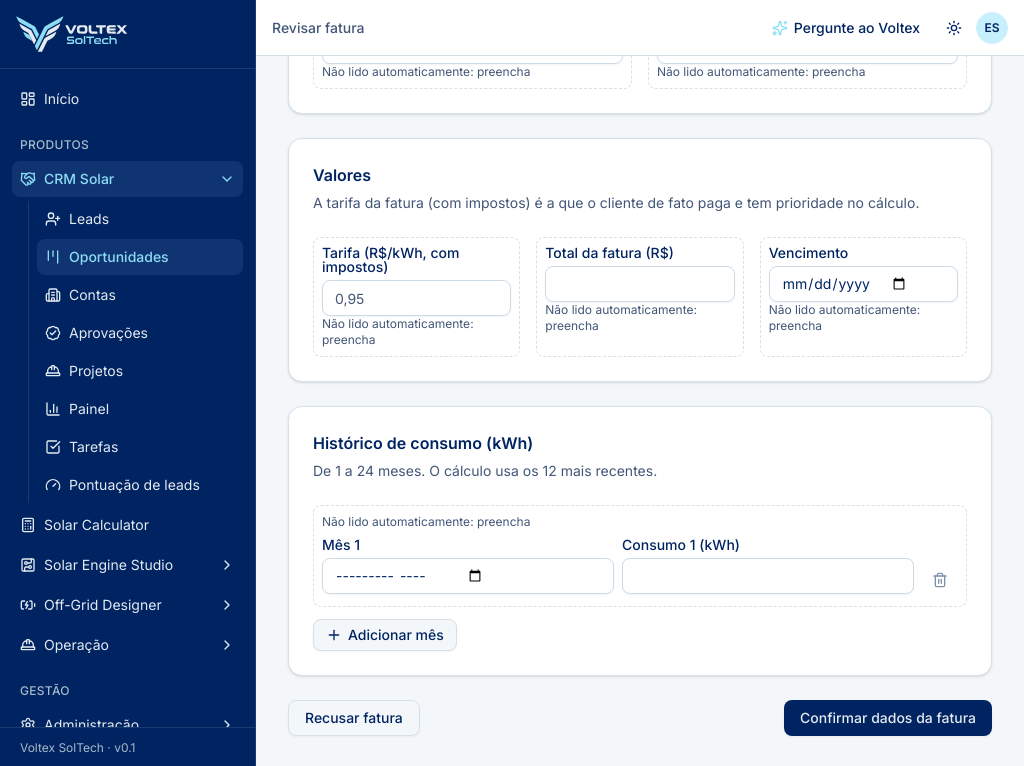
Test case: CRM · Revisão da fatura › sem UC ou sem consumo, mostra a mensagem no campo e não envia
The image size is (1024, 766).
(page scrolled)
Click the button "Confirmar dados da fatura": (888, 718) x1=784 y1=700 x2=992 y2=736
(page scrolled)
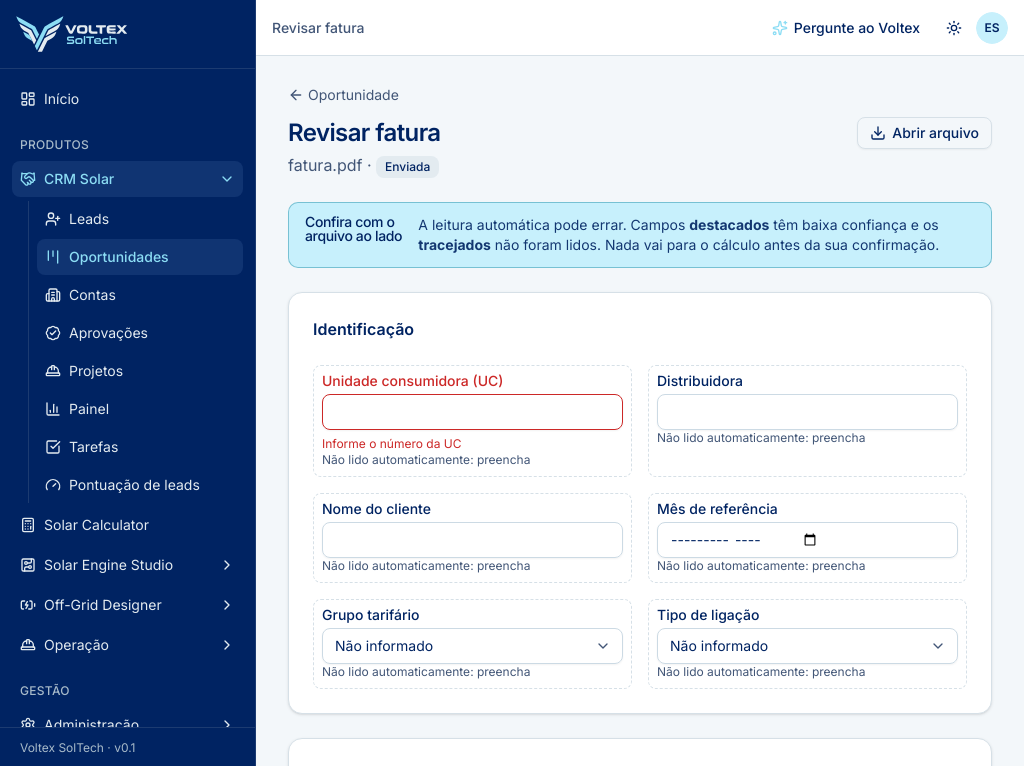
Check: the text "Informe o número da UC" is shown, box x1=322 y1=436 x2=462 y2=451
